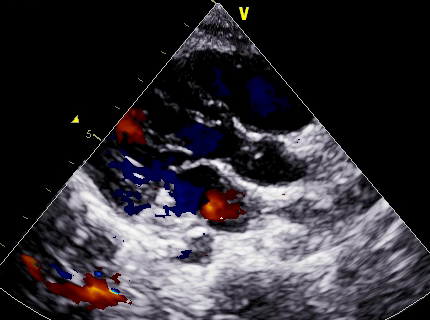MR: (138, 152, 196, 204)
